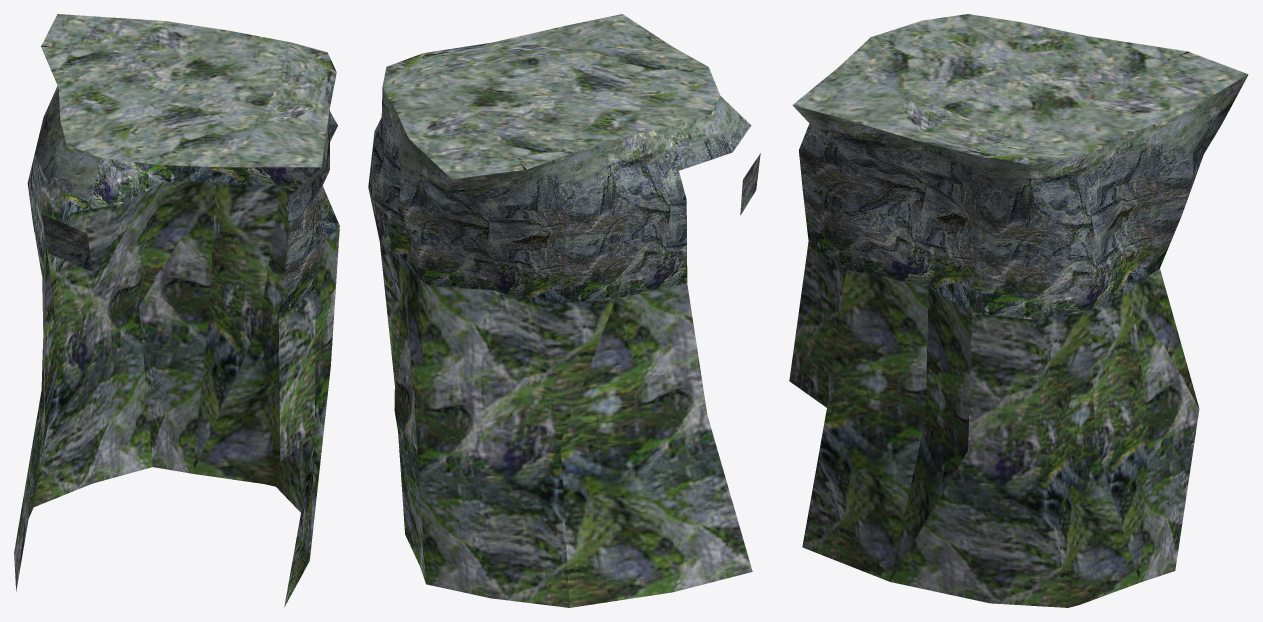
3 views of the same model, side by side, from view 1: azimuth 30°, elevation 25°; view 2: azimuth 150°, elevation 25°; view 3: azimuth 270°, elevation 25° (orthographic). The views are drawn at different scales.
Visible parts, largest first — view 1: Object45; view 2: Object45; view 3: Object45.
Part boxes in pixels (x1,y1,x2,y2): Object45: (14, 14, 339, 606); Object45: (368, 14, 760, 607); Object45: (789, 14, 1248, 607).
Size of the model in its own units: 436 by 541 by 484.
